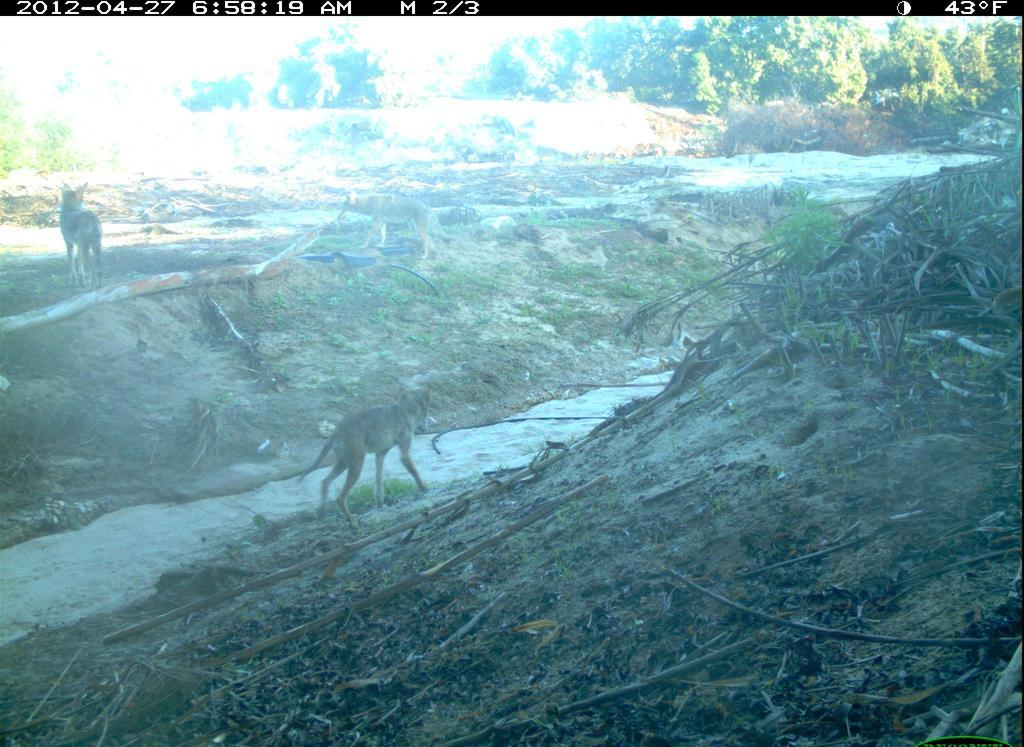coyote: (293, 376, 453, 523), (49, 169, 115, 296)
